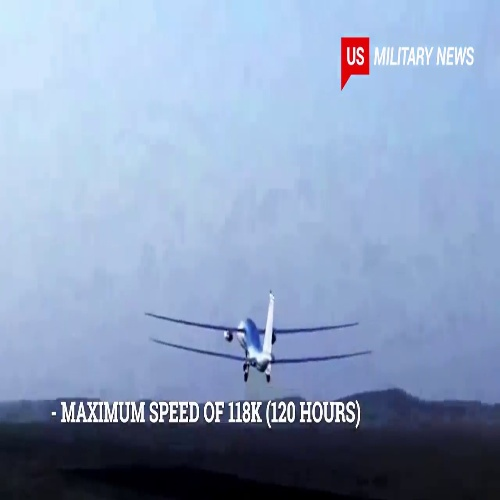uav: (144, 295, 373, 387)
